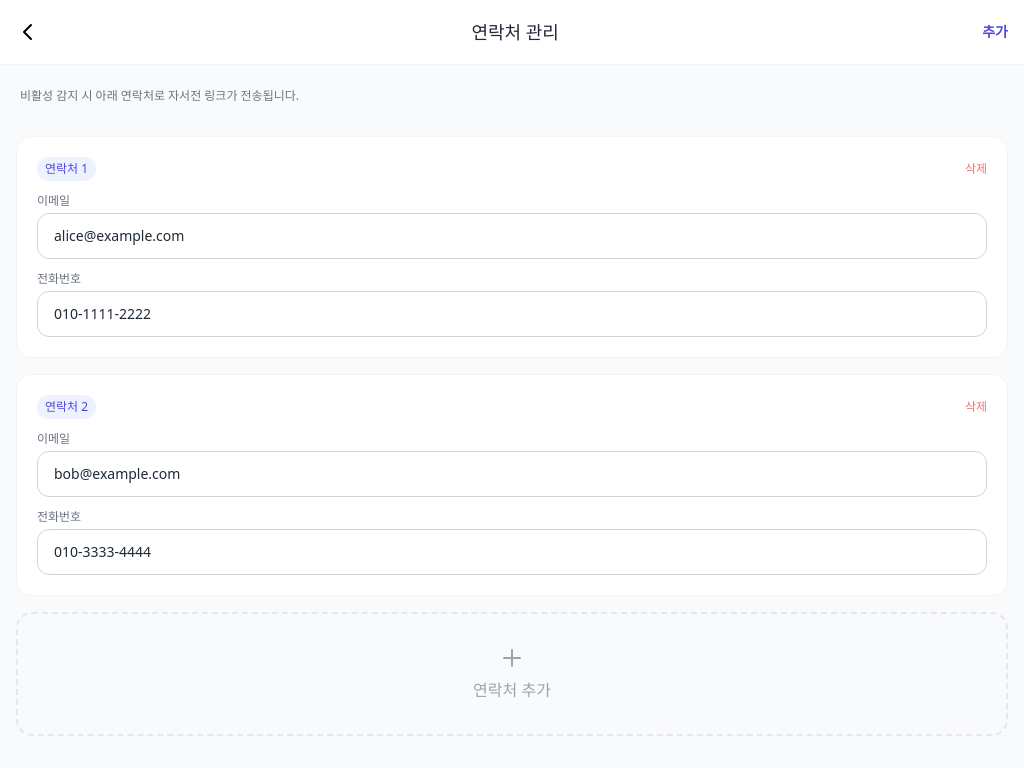
Test: Settings Contacts Flow - Integration Test › ContactCard Delete › should remove the ContactCard from the list when delete button is clicked
This screenshot has width=1024, height=768.
Expected: the number of elements with test id "contact-card" is 2, [16, 136, 1008, 358]; [16, 374, 1008, 596]
Click the 1st button with test id "contact-delete-button".
click(976, 169)  # box [965, 161, 987, 177]
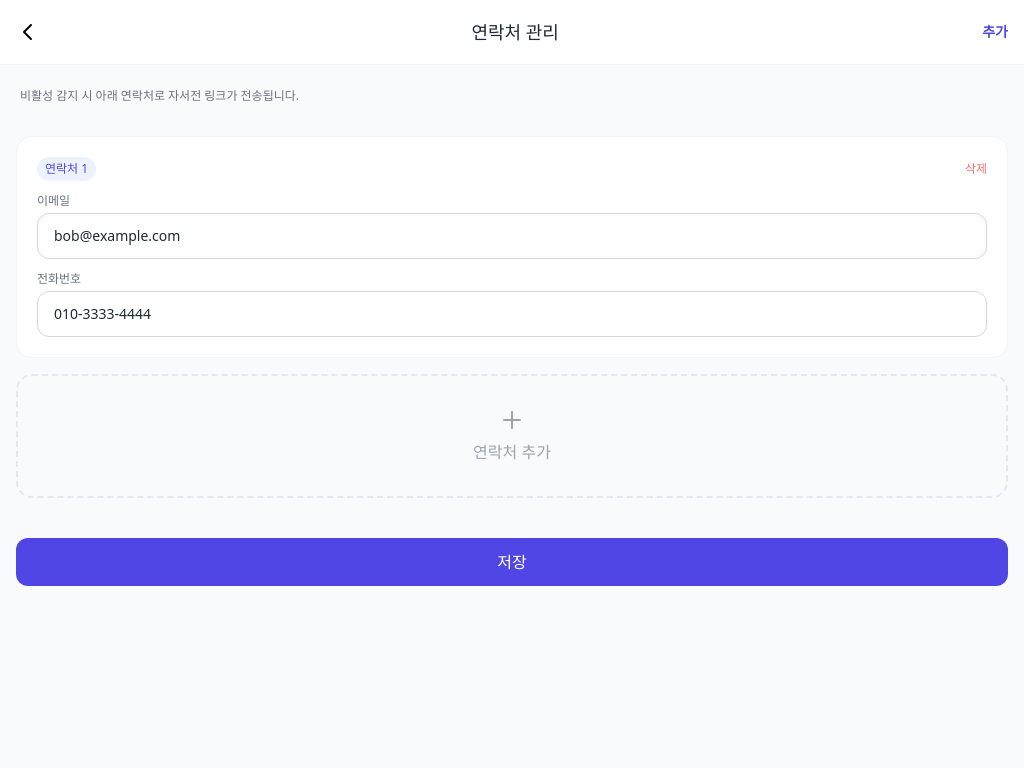
Result: the number of elements with test id "contact-card" is 1 at [16, 136, 1008, 358]
